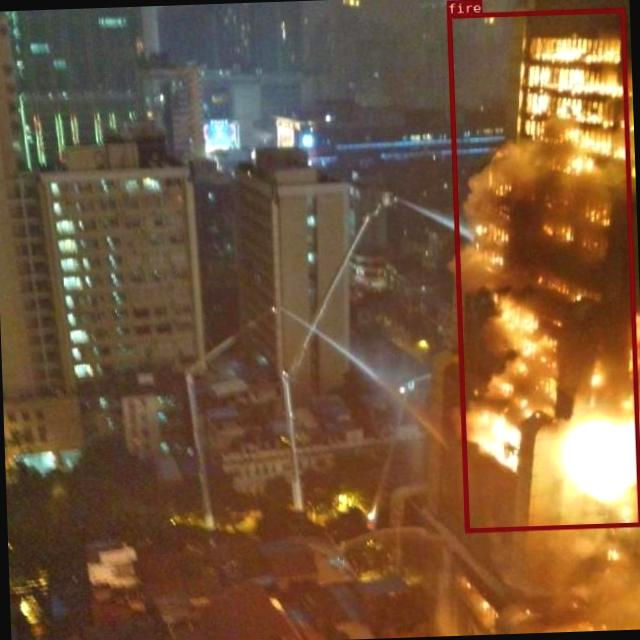fire: (446, 7, 640, 531)
